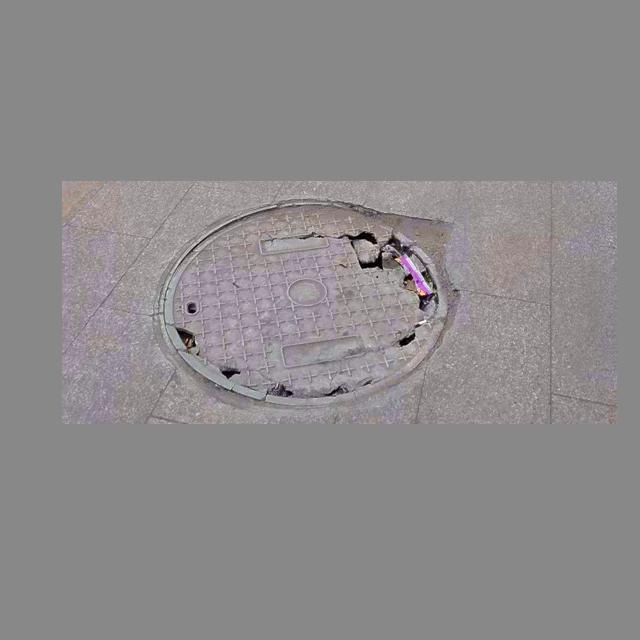broke: (159, 200, 452, 407)
